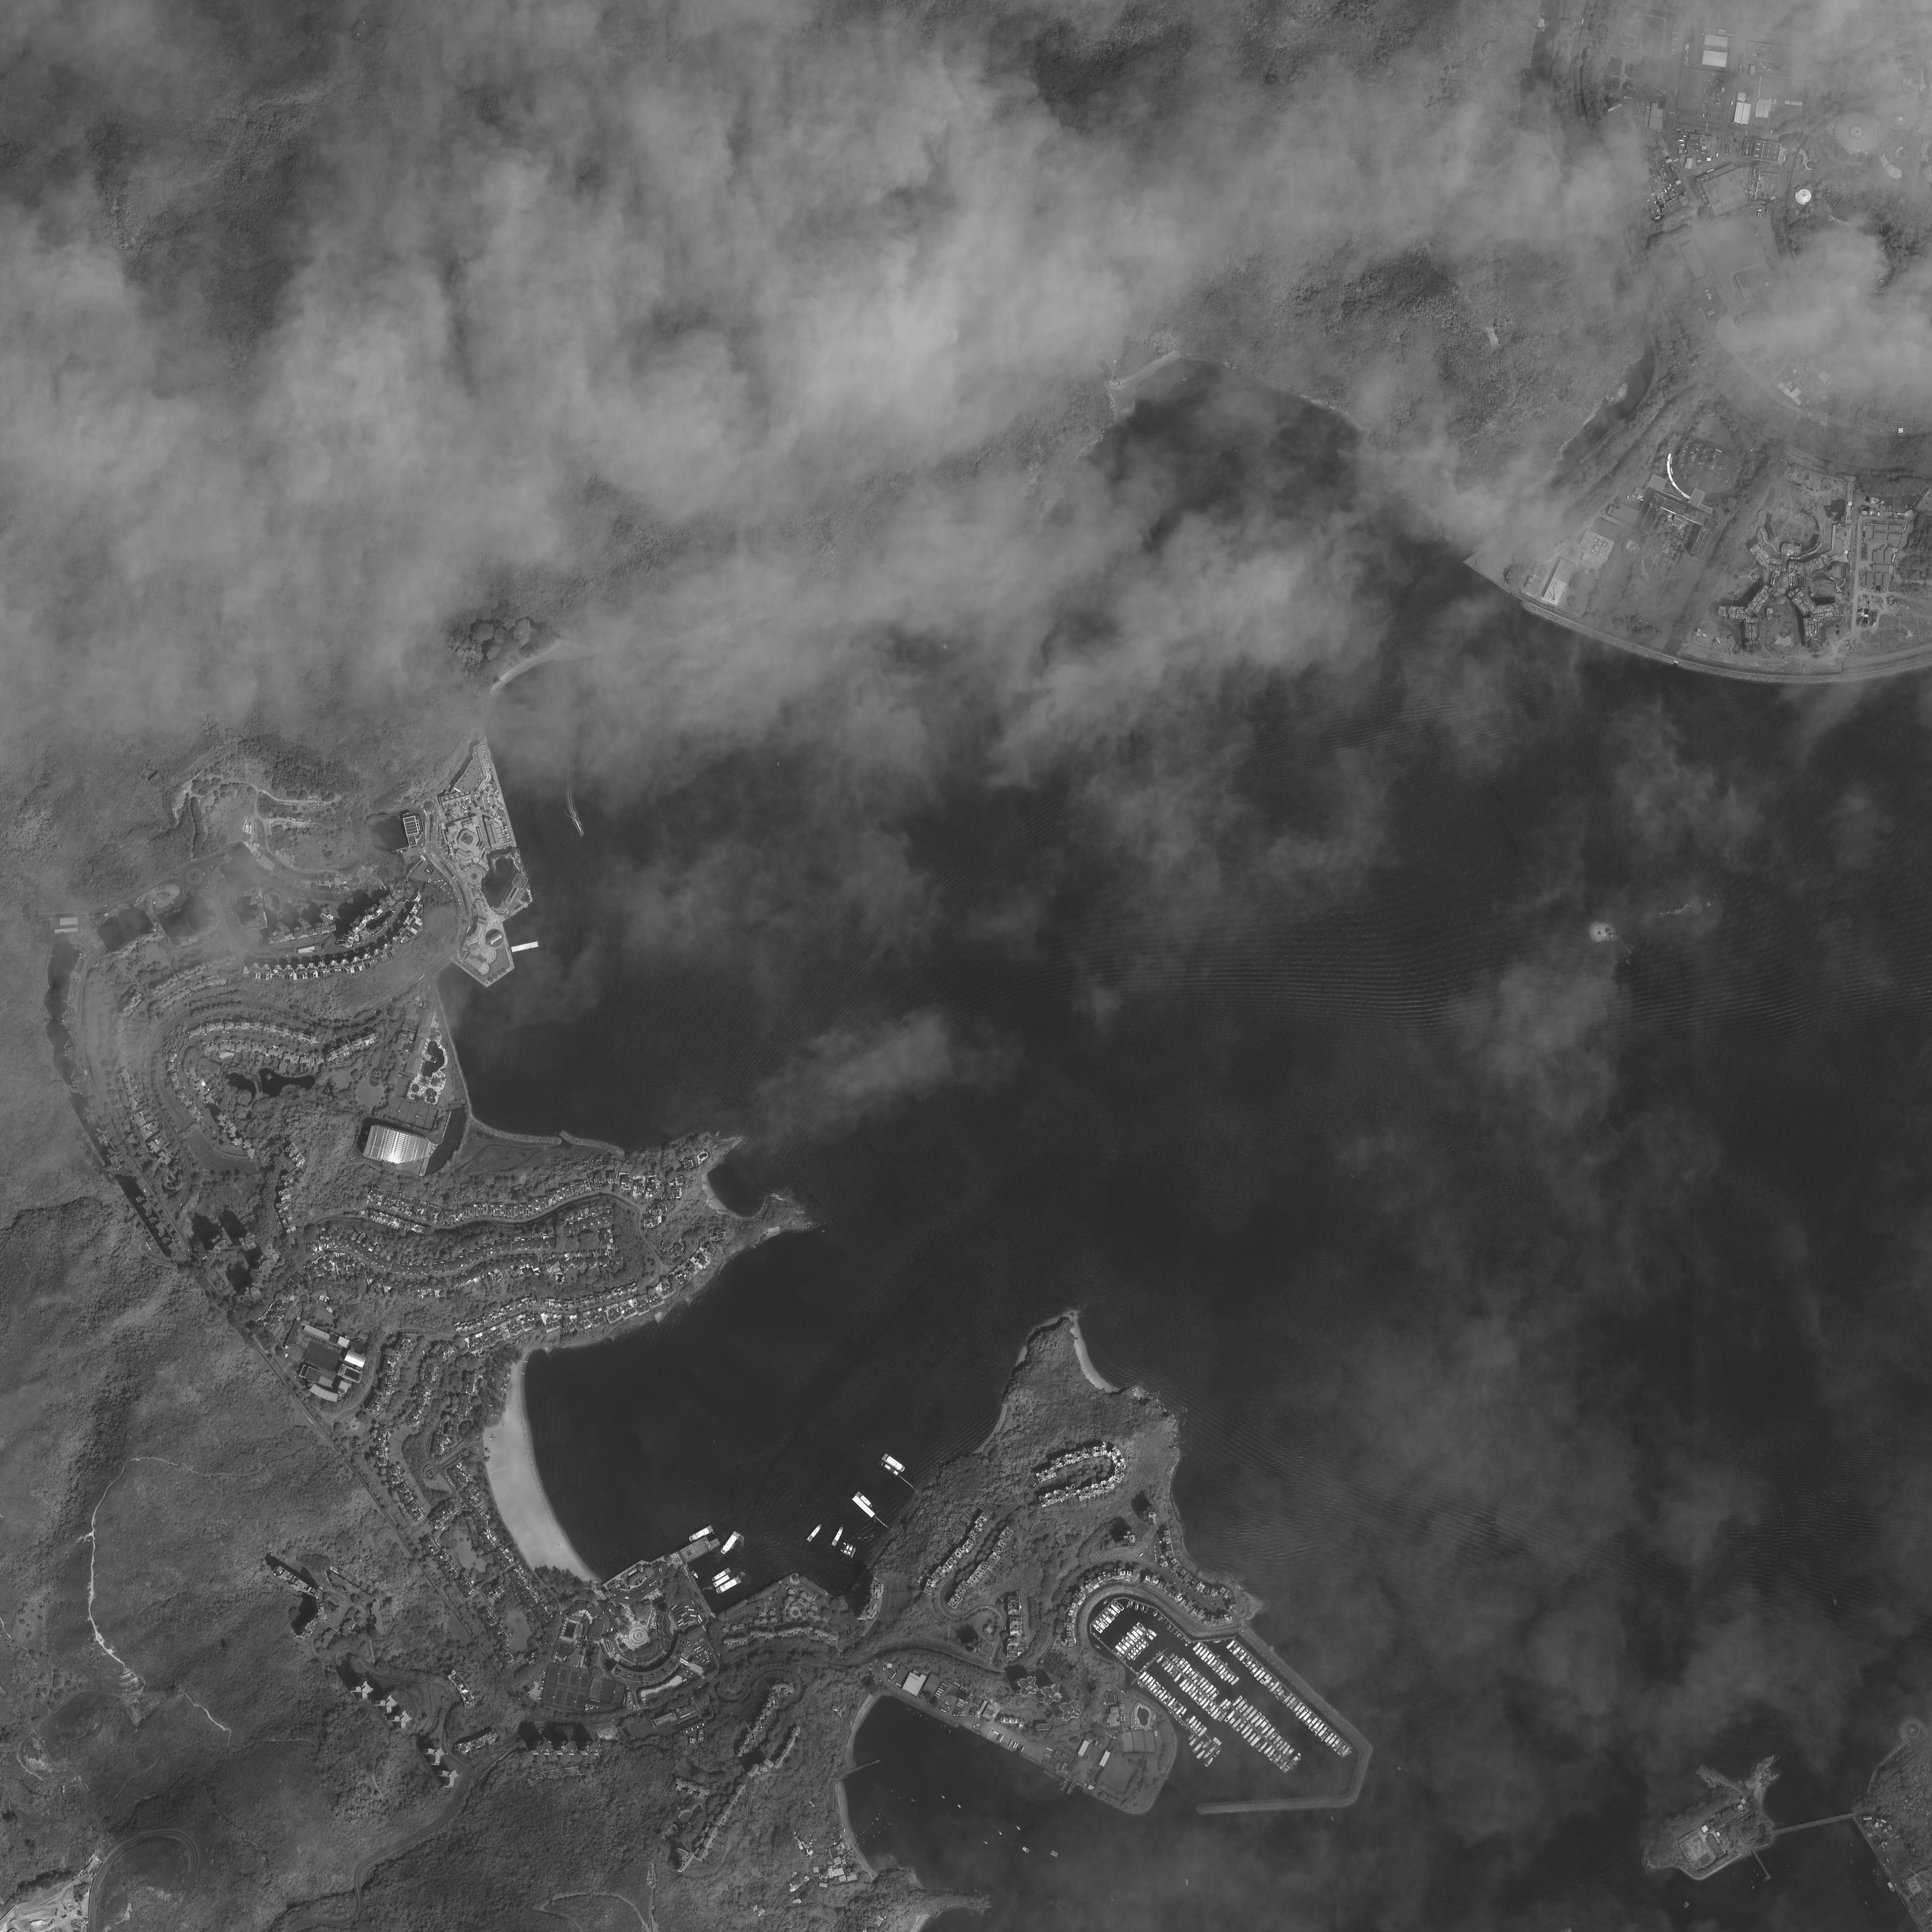harbor: (679, 1532, 722, 1562)
ship: (718, 1530, 741, 1557), (881, 1453, 906, 1474), (715, 1575, 741, 1594), (686, 1525, 713, 1543), (805, 1522, 823, 1545), (855, 1491, 874, 1509), (832, 1525, 846, 1548), (711, 1568, 732, 1582), (713, 1575, 731, 1587), (1203, 1744, 1215, 1760), (1235, 1698, 1247, 1711), (1242, 1706, 1254, 1718), (1192, 1741, 1205, 1753), (1224, 1709, 1235, 1723), (1311, 1720, 1322, 1732), (1295, 1706, 1306, 1718), (1246, 1709, 1258, 1720), (1238, 1704, 1251, 1714), (1251, 1713, 1263, 1723), (1258, 1720, 1269, 1732), (1269, 1730, 1279, 1743), (1092, 1622, 1104, 1633), (1100, 1614, 1113, 1624), (1251, 1734, 1261, 1746), (1237, 1720, 1247, 1732), (1240, 1723, 1251, 1736), (1247, 1730, 1258, 1743), (1258, 1741, 1269, 1753), (1327, 1734, 1338, 1744), (1315, 1723, 1325, 1734), (1306, 1714, 1316, 1725), (1302, 1711, 1313, 1721), (1299, 1709, 1309, 1720), (1286, 1697, 1297, 1707), (1283, 1693, 1293, 1704), (1279, 1691, 1290, 1702), (1267, 1679, 1277, 1690), (1233, 1697, 1244, 1707), (1341, 1746, 1352, 1757), (1254, 1716, 1265, 1727), (1261, 1723, 1272, 1734), (1272, 1736, 1283, 1746), (1277, 1741, 1288, 1752), (1251, 1663, 1261, 1674), (1095, 1619, 1106, 1629), (1099, 1617, 1109, 1628), (1104, 1610, 1115, 1621), (1118, 1642, 1129, 1652), (1125, 1635, 1136, 1645), (1127, 1631, 1138, 1642), (1131, 1629, 1141, 1640), (1132, 1626, 1143, 1637), (1230, 1714, 1240, 1725), (1244, 1729, 1254, 1739), (1210, 1707, 1221, 1718), (1207, 1704, 1217, 1714), (1173, 1672, 1184, 1683), (1325, 1732, 1334, 1744), (1322, 1729, 1330, 1741), (1270, 1681, 1279, 1693), (1267, 1727, 1276, 1739), (1219, 1711, 1228, 1723), (1233, 1716, 1242, 1729), (1293, 1702, 1302, 1713), (1318, 1727, 1327, 1737), (1309, 1718, 1318, 1729), (1334, 1741, 1343, 1752), (1274, 1684, 1283, 1695), (1263, 1675, 1274, 1684), (1261, 1674, 1270, 1684), (1254, 1667, 1263, 1677), (1338, 1744, 1346, 1755), (1214, 1665, 1224, 1674), (1284, 1748, 1295, 1757), (1292, 1753, 1302, 1762), (839, 1541, 847, 1552), (1233, 1645, 1242, 1656), (1230, 1642, 1238, 1652), (1113, 1601, 1123, 1610), (1203, 1654, 1214, 1663), (1178, 1707, 1187, 1718), (1191, 1720, 1200, 1730), (1194, 1725, 1205, 1734), (1201, 1741, 1212, 1750), (1205, 1757, 1214, 1767), (1161, 1693, 1171, 1702), (1159, 1690, 1168, 1700), (1115, 1645, 1125, 1654), (1146, 1628, 1157, 1637), (1150, 1681, 1159, 1691), (1201, 1651, 1210, 1661), (1219, 1698, 1228, 1709), (1256, 1739, 1265, 1750), (1263, 1744, 1272, 1755), (1283, 1762, 1292, 1773), (1205, 1702, 1214, 1713), (1196, 1677, 1207, 1686), (1205, 1684, 1214, 1695), (1207, 1688, 1217, 1697), (1290, 1700, 1299, 1709), (1276, 1690, 1284, 1698), (1258, 1670, 1267, 1679), (1332, 1739, 1341, 1748), (1212, 1661, 1221, 1670), (1221, 1670, 1230, 1679), (1224, 1672, 1233, 1681), (1231, 1677, 1240, 1686), (1276, 1739, 1284, 1748), (1249, 1661, 1258, 1670), (1246, 1658, 1254, 1667), (1242, 1654, 1251, 1663), (1237, 1649, 1246, 1658), (1226, 1640, 1235, 1649), (1111, 1605, 1120, 1614), (1108, 1608, 1116, 1617), (1210, 1660, 1219, 1668), (1207, 1656, 1215, 1665), (1173, 1704, 1182, 1713), (1177, 1706, 1185, 1714), (1184, 1714, 1192, 1723), (1187, 1716, 1196, 1725), (1198, 1729, 1207, 1737), (1189, 1737, 1198, 1746), (1214, 1737, 1223, 1746), (1198, 1750, 1207, 1759), (1177, 1658, 1185, 1667), (1164, 1695, 1173, 1704), (1155, 1688, 1164, 1697), (1113, 1649, 1122, 1658), (1138, 1622, 1146, 1631), (1131, 1649, 1139, 1658), (1138, 1672, 1146, 1681), (1141, 1674, 1150, 1683), (1145, 1675, 1154, 1684), (1152, 1684, 1161, 1693), (1180, 1661, 1189, 1670), (1185, 1667, 1194, 1675), (1214, 1711, 1223, 1720), (1223, 1702, 1231, 1711), (1270, 1752, 1279, 1760), (1274, 1755, 1283, 1764), (1192, 1642, 1201, 1651), (1198, 1649, 1207, 1658), (1201, 1700, 1210, 1709), (1191, 1672, 1200, 1681), (1200, 1679, 1208, 1688), (1203, 1683, 1212, 1691), (1210, 1691, 1219, 1700), (1162, 1663, 1171, 1672), (1178, 1679, 1187, 1688), (1182, 1683, 1191, 1691), (1185, 1684, 1194, 1693), (1191, 1690, 1200, 1698), (1196, 1695, 1205, 1704), (1219, 1667, 1226, 1677), (1283, 1744, 1290, 1755), (849, 1548, 856, 1559), (847, 1545, 855, 1555), (1240, 1651, 1247, 1661), (1168, 1697, 1175, 1707), (1122, 1640, 1132, 1647), (1277, 1757, 1284, 1767), (1196, 1645, 1203, 1656), (1228, 1674, 1235, 1683), (1023, 1845, 1030, 1854), (844, 1545, 851, 1553), (692, 1571, 699, 1580), (1169, 1702, 1178, 1709), (1194, 1721, 1201, 1730), (1184, 1663, 1191, 1672), (1127, 1652, 1136, 1660), (1132, 1647, 1141, 1654), (1136, 1644, 1145, 1651), (1138, 1642, 1146, 1649), (1141, 1638, 1150, 1645), (1146, 1631, 1154, 1640), (1148, 1679, 1155, 1688), (1189, 1668, 1196, 1677), (1267, 1750, 1276, 1757), (1281, 1760, 1288, 1769), (1157, 1654, 1164, 1663), (1169, 1667, 1177, 1675), (1189, 1686, 1196, 1695), (1194, 1693, 1201, 1702), (1200, 1697, 1207, 1706), (1051, 1851, 1058, 1858), (1189, 1734, 1196, 1741), (1214, 1750, 1221, 1757), (1171, 1656, 1178, 1663), (1194, 1675, 1201, 1683), (1161, 1661, 1168, 1668), (1171, 1670, 1178, 1677), (1168, 1665, 1173, 1674), (998, 1829, 1003, 1836), (1016, 1824, 1021, 1831), (1169, 1626, 1175, 1633), (1169, 1652, 1175, 1660), (1175, 1658, 1180, 1665), (1185, 1879, 1189, 1888), (941, 1794, 947, 1799), (957, 1803, 962, 1808), (984, 1840, 989, 1845), (911, 1798, 916, 1803), (1185, 1642, 1191, 1647), (1178, 1635, 1184, 1640), (1157, 1615, 1162, 1621), (1154, 1612, 1159, 1617), (1141, 1605, 1145, 1612), (1136, 1603, 1139, 1610), (1127, 1601, 1131, 1608), (1330, 1815, 1334, 1821), (1177, 1631, 1180, 1637), (1175, 1629, 1178, 1635), (1168, 1624, 1171, 1629), (1131, 1603, 1134, 1608), (1214, 1640, 1221, 1642)
